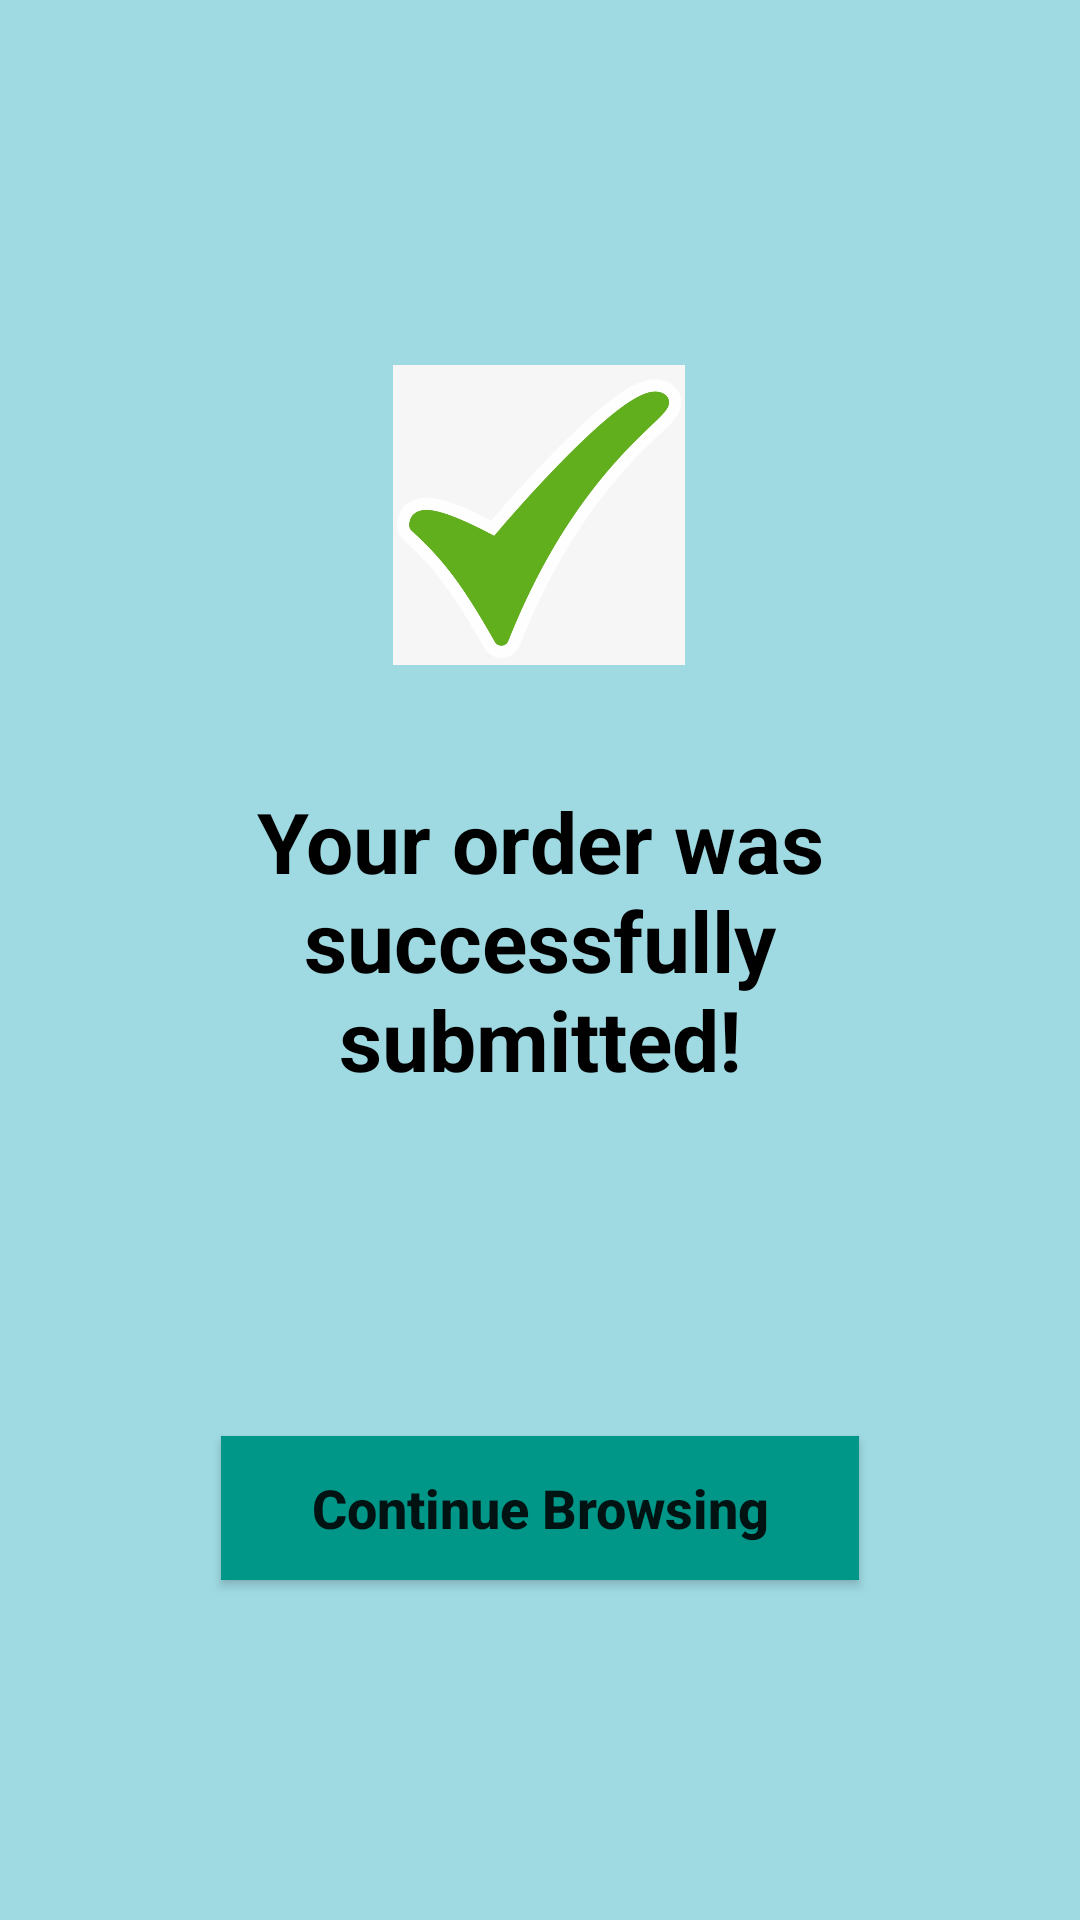

Icon click points for this 1080×1920 phone screenshot, format [x,y]:
right: [539,515]
